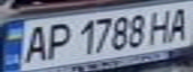1: (75, 16, 96, 55)
7: (93, 15, 115, 53)
8: (124, 11, 151, 48), (112, 12, 133, 52)
A: (18, 21, 51, 64), (163, 3, 193, 43)
H: (145, 7, 175, 45)
P: (42, 20, 72, 61)
